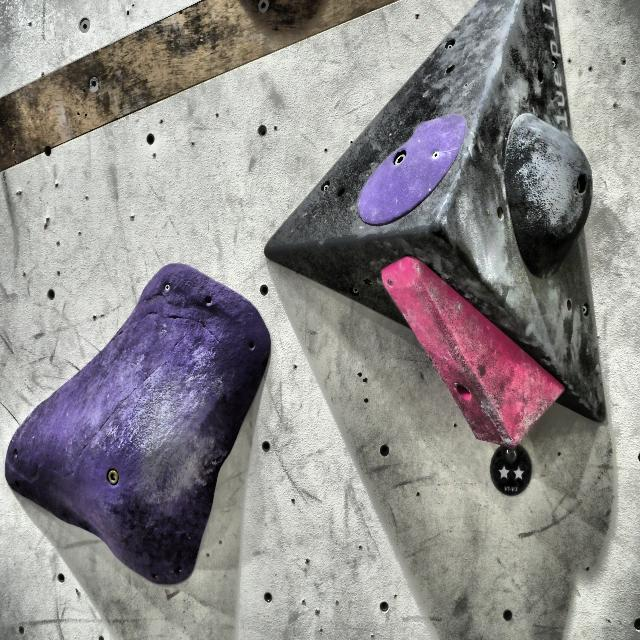Hold: (3, 265, 274, 599), (377, 255, 575, 471), (502, 97, 592, 266), (344, 114, 464, 227)
